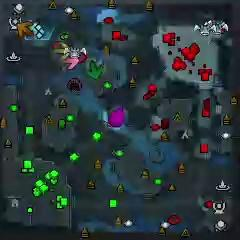p3: (110, 108, 125, 126)
x1: (63, 56, 80, 70)
x2: (54, 43, 71, 60)
x3: (28, 22, 38, 35)
x4: (86, 60, 102, 79)
x5: (16, 20, 35, 38)
